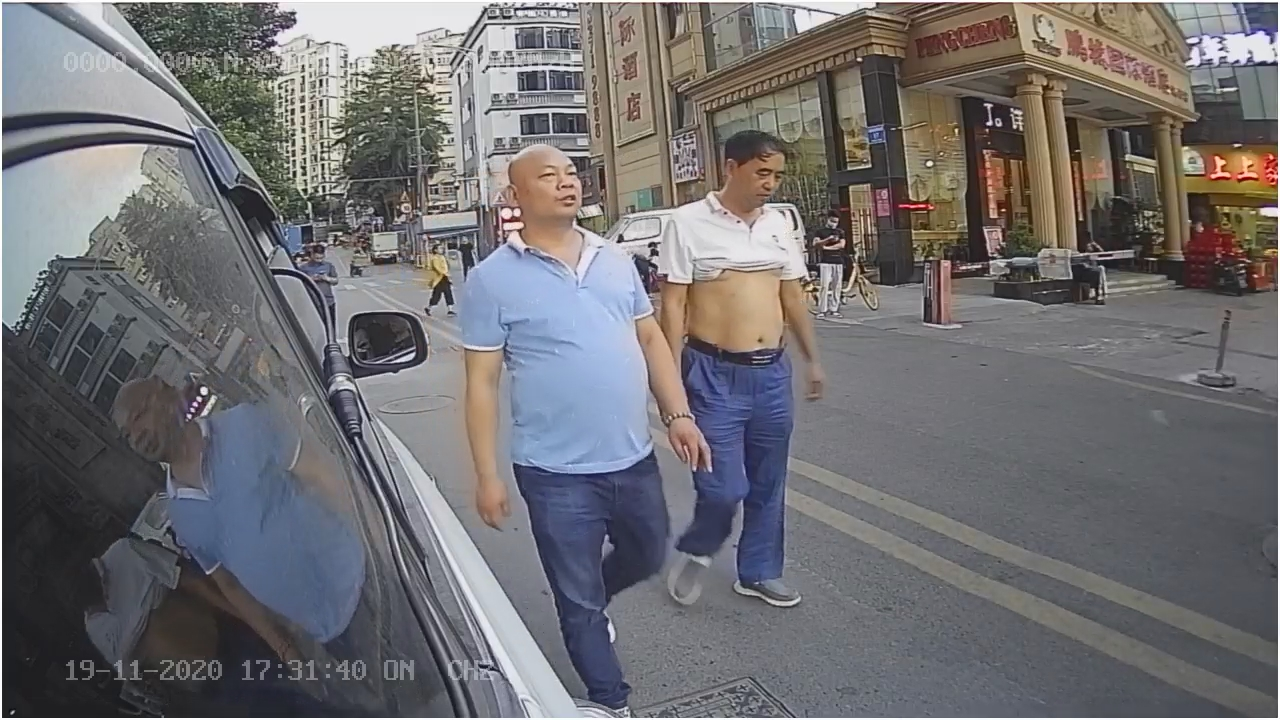person: (455, 140, 669, 518), (671, 124, 848, 557)
